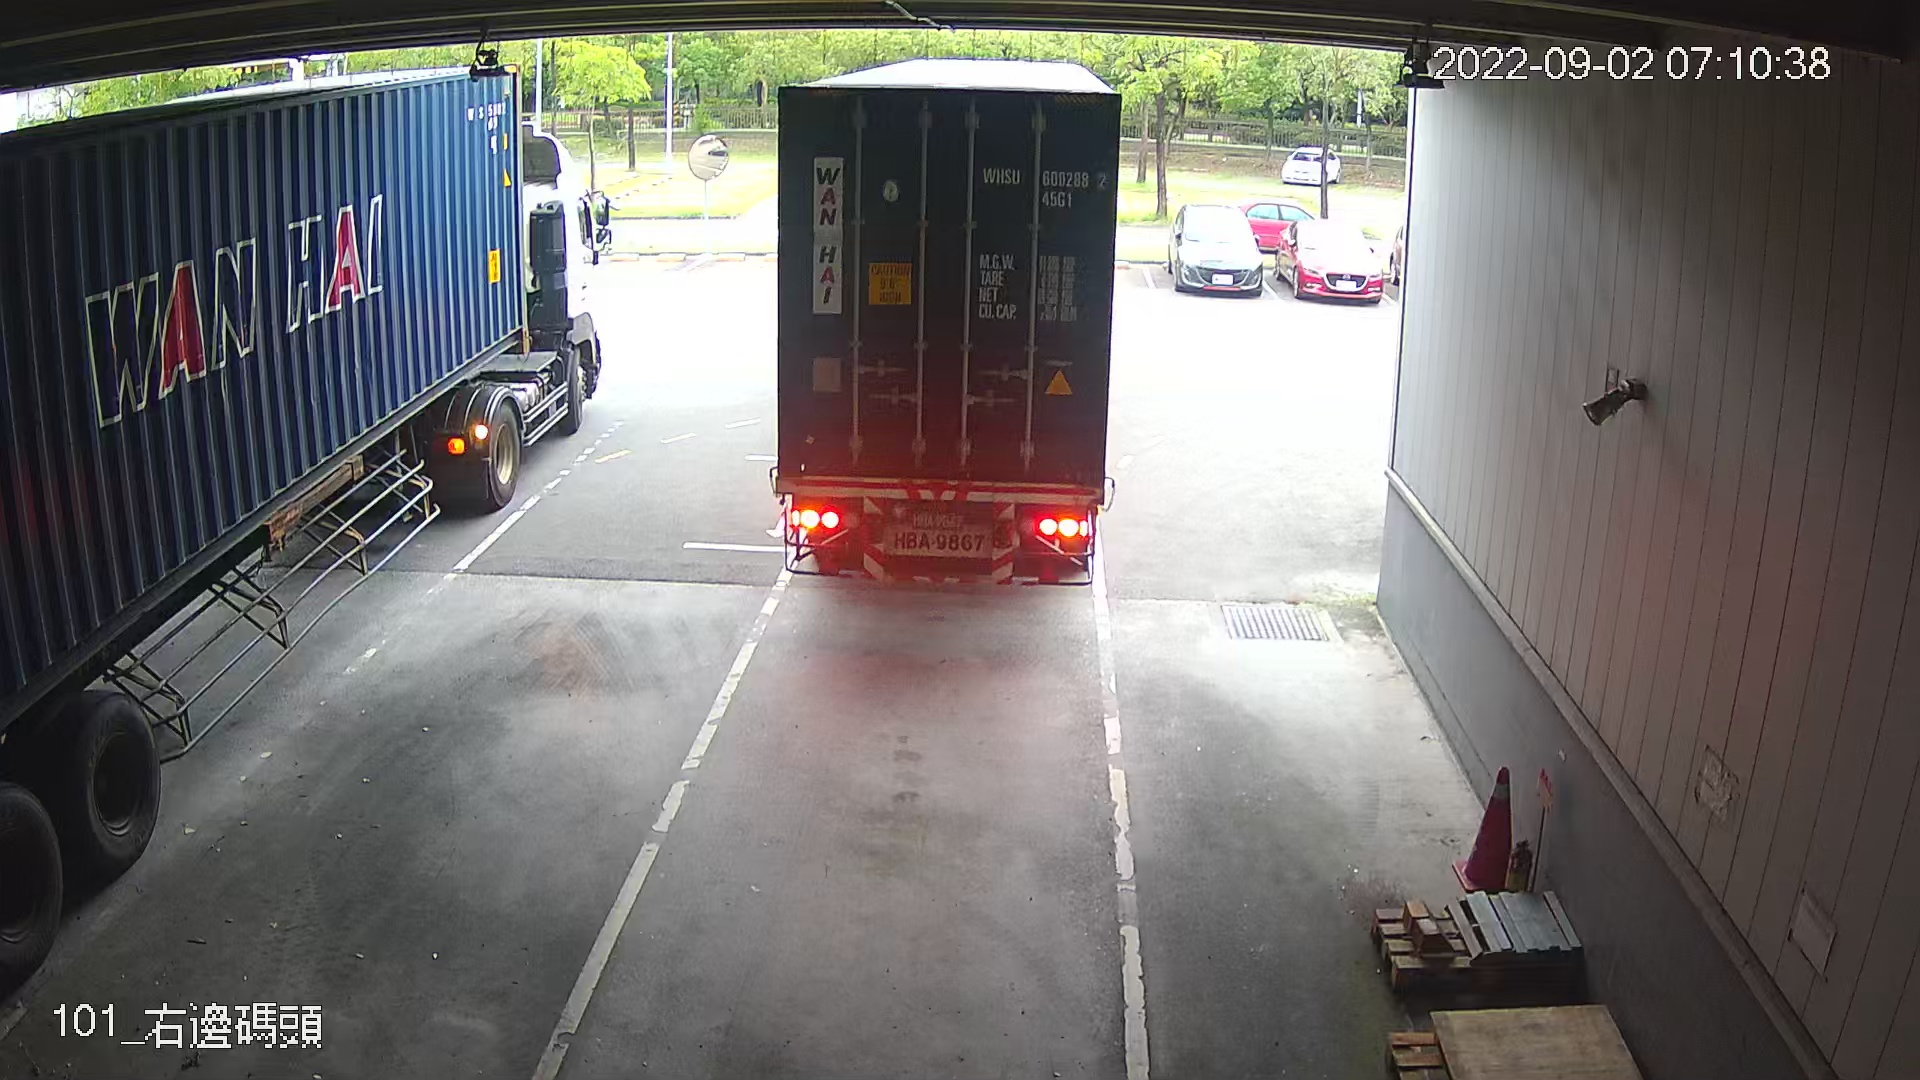container: (976, 156, 1112, 216)
